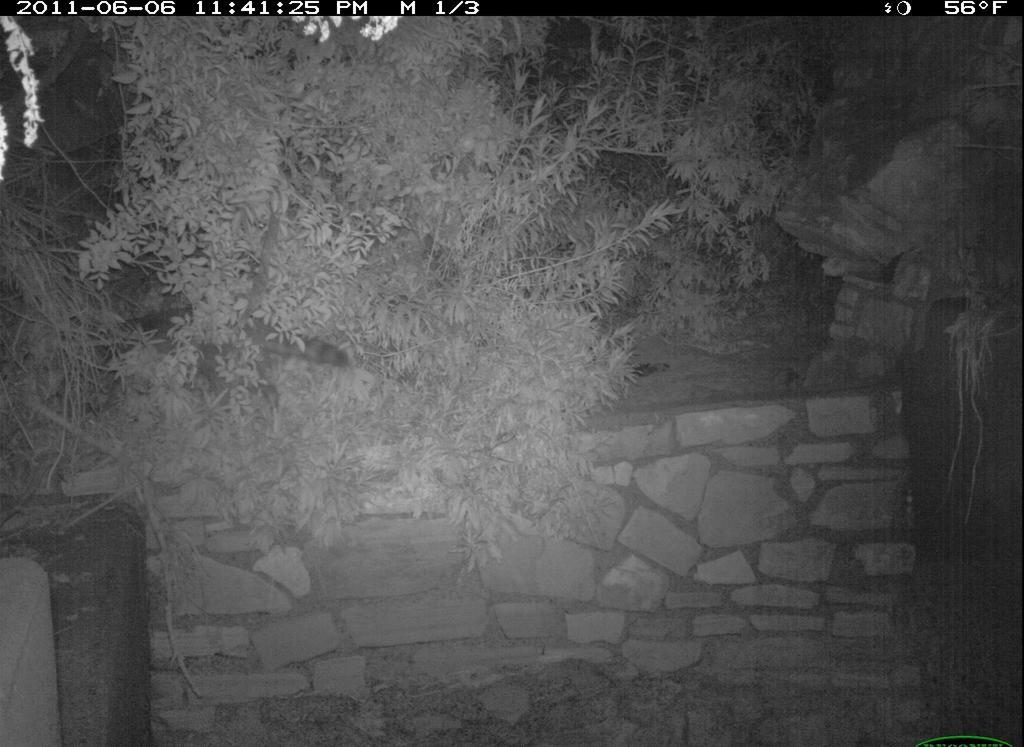raccoon: (59, 296, 363, 441)
